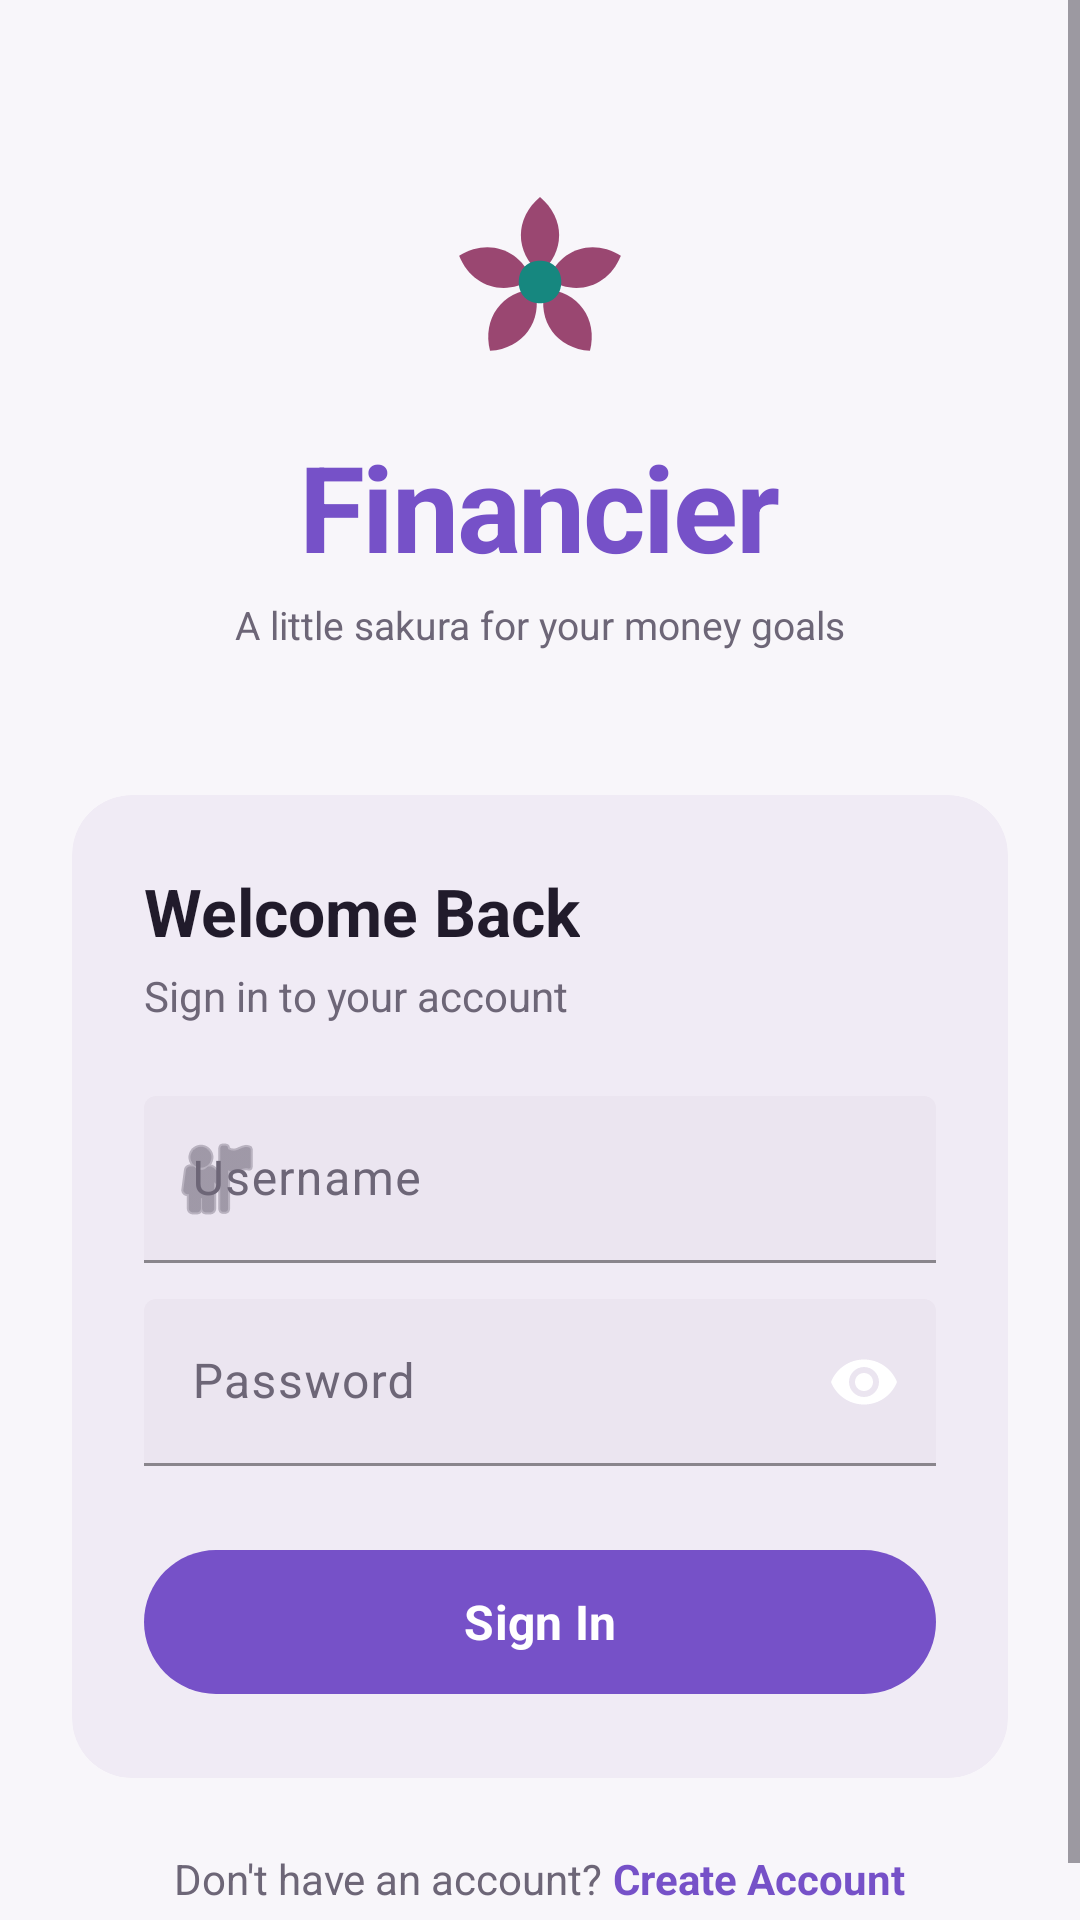

Where to tap for icons on this 1080px×1920px app screen, as point (x, y):
sakura: point (540, 274)
